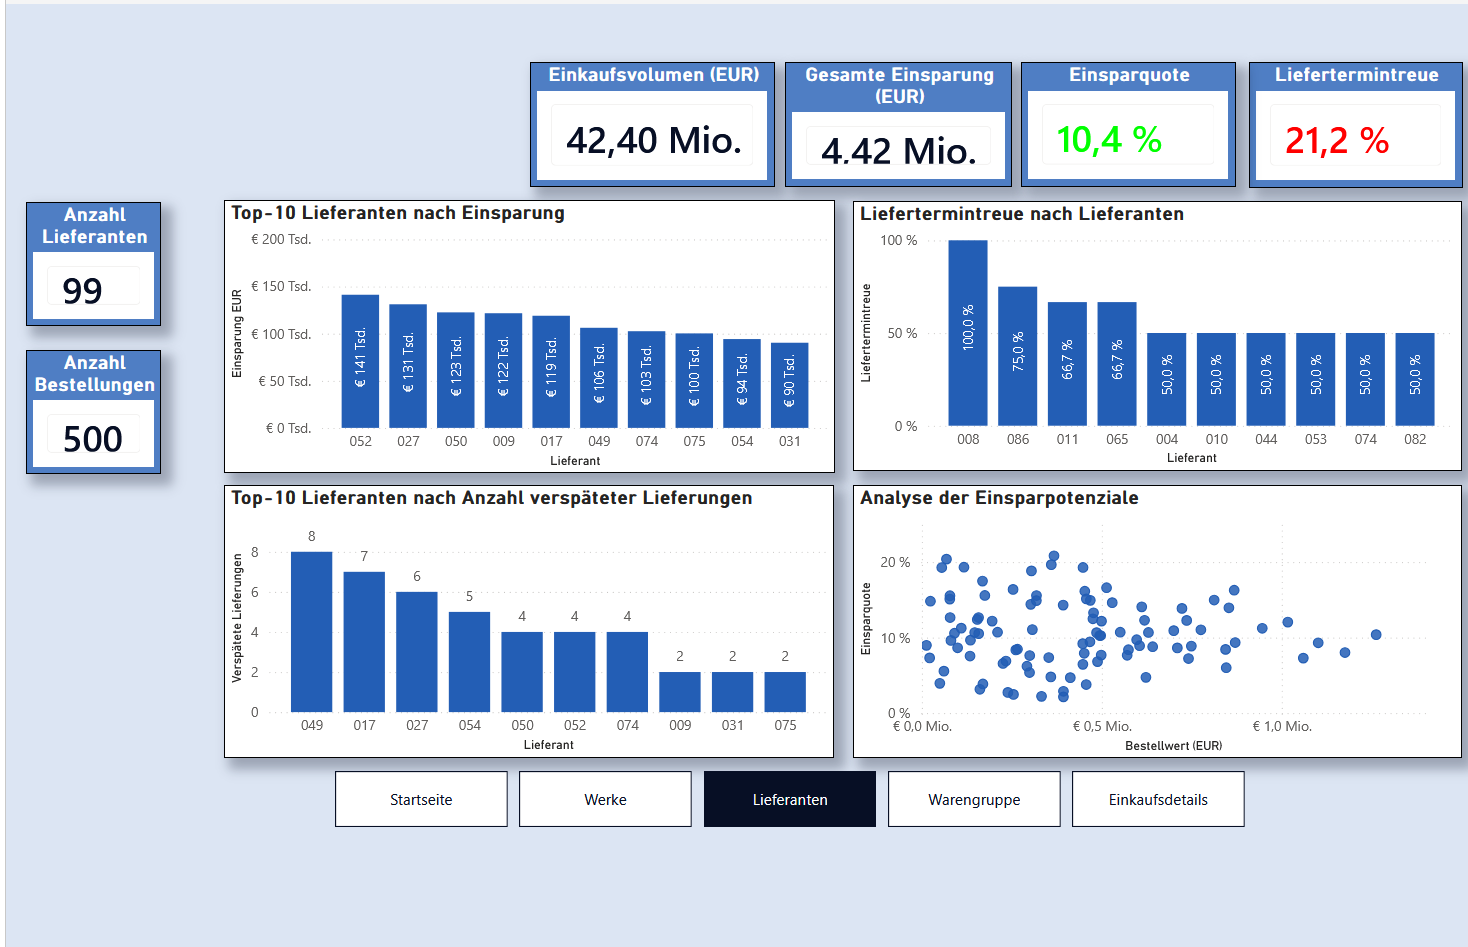

This screenshot's page, from the dashboard's own definition file:
{"tool":"powerbi","page":{"name":"Lieferanten","canvas":[1280,720],"ordinal":2},"visuals":[{"type":"cardVisual","title":"Liefertermintreue","fields":{"Data":["Einkaufsdaten.Liefertermintreue"]},"box":[1086.4,50.6,186.7,109.9],"z":1000},{"type":"cardVisual","title":"Einkaufsvolumen (EUR)","fields":{"Data":["Einkaufsdaten.Gesamt Einkaufsvolumen EUR"]},"box":[458.2,50.9,213.6,109.1],"z":2000},{"type":"cardVisual","title":"Gesamte Einsparung (EUR)","fields":{"Data":["Einkaufsdaten.Gesamte Einsparung"]},"box":[680.9,50.6,198.4,108.9],"z":3000},{"type":"cardVisual","title":"Einsparquote","fields":{"Data":["Einkaufsdaten.Einsparquote"]},"box":[887.1,50.6,187.7,108.9],"z":4000},{"type":"cardVisual","title":"Anzahl Bestellungen","fields":{"Data":["Einkaufsdaten.Anzahl Bestellungen"]},"box":[17.8,301.9,118,108.4],"z":5000},{"type":"cardVisual","title":"Anzahl Lieferanten","fields":{"Data":["Einkaufsdaten.Anzahl Lieferanten"]},"box":[17.8,172.9,118,108.4],"z":6000},{"type":"columnChart","title":"Top-10 Lieferanten nach Einsparung","fields":{"Category":["Einkaufsdaten.Lieferant"],"Y":["Sum(Einkaufsdaten.Einsparung EUR)"]},"box":[190.7,171.5,533.8,238.8],"z":7000},{"type":"columnChart","title":"Liefertermintreue nach Lieferanten","fields":{"Category":["Einkaufsdaten.Lieferant"],"Y":["Einkaufsdaten.Liefertermintreue"]},"box":[740,172,532,236],"z":8000},{"type":"columnChart","title":"Top-10 Lieferanten nach Anzahl verspäteter Lieferungen","fields":{"Category":["Einkaufsdaten.Lieferant"],"Y":["Einkaufsdaten.Verspätete Lieferungen"]},"box":[190.5,420.2,533.3,238.1],"z":9000},{"type":"scatterChart","title":"Analyse der Einsparpotenziale","fields":{"Category":["Einkaufsdaten.Lieferant"],"X":["Sum(Einkaufsdaten.Bestellwert Euro)"],"Y":["Einkaufsdaten.Einsparquote"]},"box":[740,420,532.2,238.9],"z":10000},{"type":"pageNavigator","box":[287.4,670.2,799.9,49.8],"z":11000}]}

Visuals, with their boxes on the page's 1280x720 design canvas (x1, y1, x2, y2). These are canvas units, not pixel positions in the 1468x947 screenshot, which may show the page scaled, cropped or inside an application window:
"Liefertermintreue" cardVisual: BBox(1086, 51, 1273, 160)
"Einkaufsvolumen (EUR)" cardVisual: BBox(458, 51, 672, 160)
"Gesamte Einsparung (EUR)" cardVisual: BBox(681, 51, 879, 160)
"Einsparquote" cardVisual: BBox(887, 51, 1075, 160)
"Anzahl Bestellungen" cardVisual: BBox(18, 302, 136, 410)
"Anzahl Lieferanten" cardVisual: BBox(18, 173, 136, 281)
"Top-10 Lieferanten nach Einsparung" columnChart: BBox(191, 172, 724, 410)
"Liefertermintreue nach Lieferanten" columnChart: BBox(740, 172, 1272, 408)
"Top-10 Lieferanten nach Anzahl verspäteter Lieferungen" columnChart: BBox(190, 420, 724, 658)
"Analyse der Einsparpotenziale" scatterChart: BBox(740, 420, 1272, 659)
pageNavigator: BBox(287, 670, 1087, 720)
